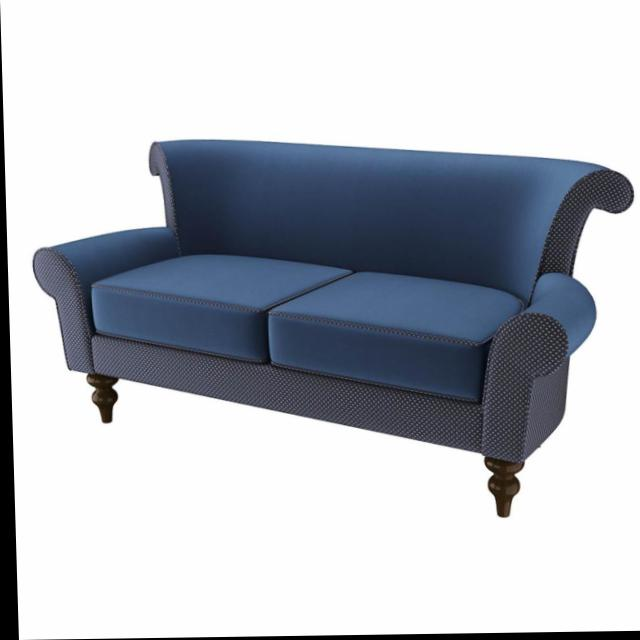Sofa: (28, 132, 640, 526)
